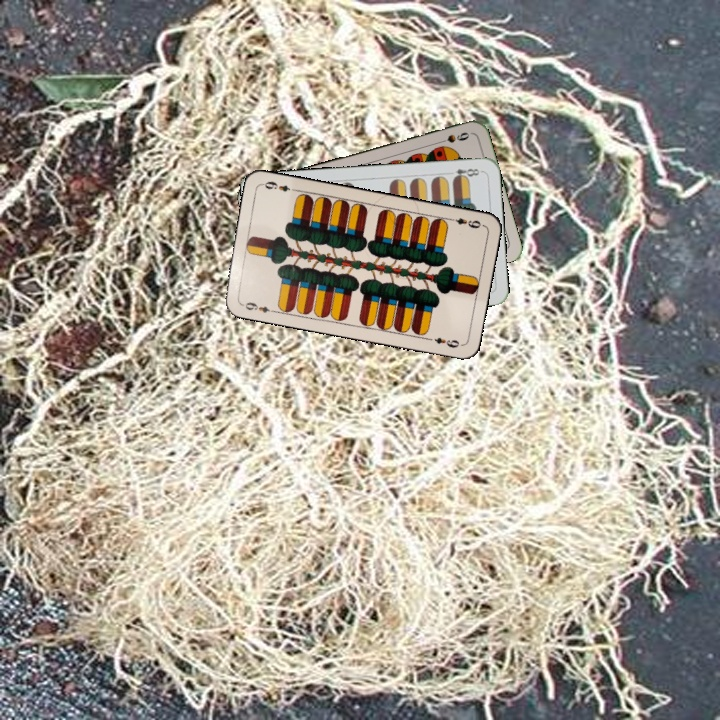E8: (449, 164, 484, 182)
E9: (237, 298, 277, 315), (445, 214, 483, 231)
S9: (433, 128, 472, 146)
